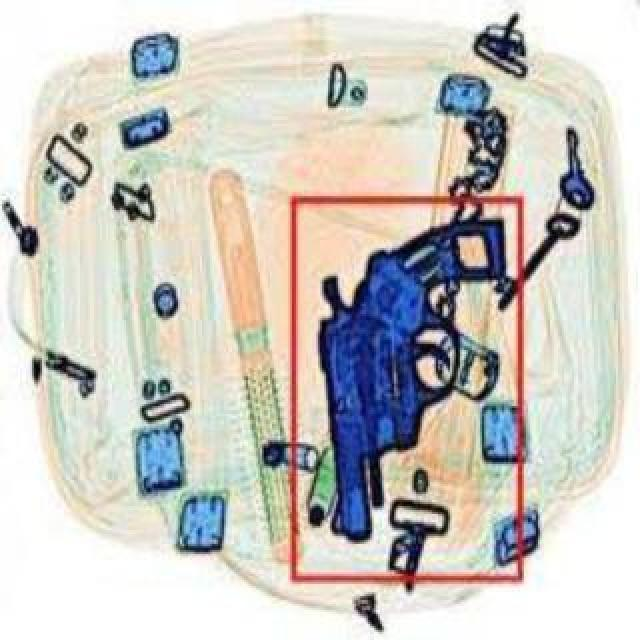gun: (312, 208, 504, 542)
